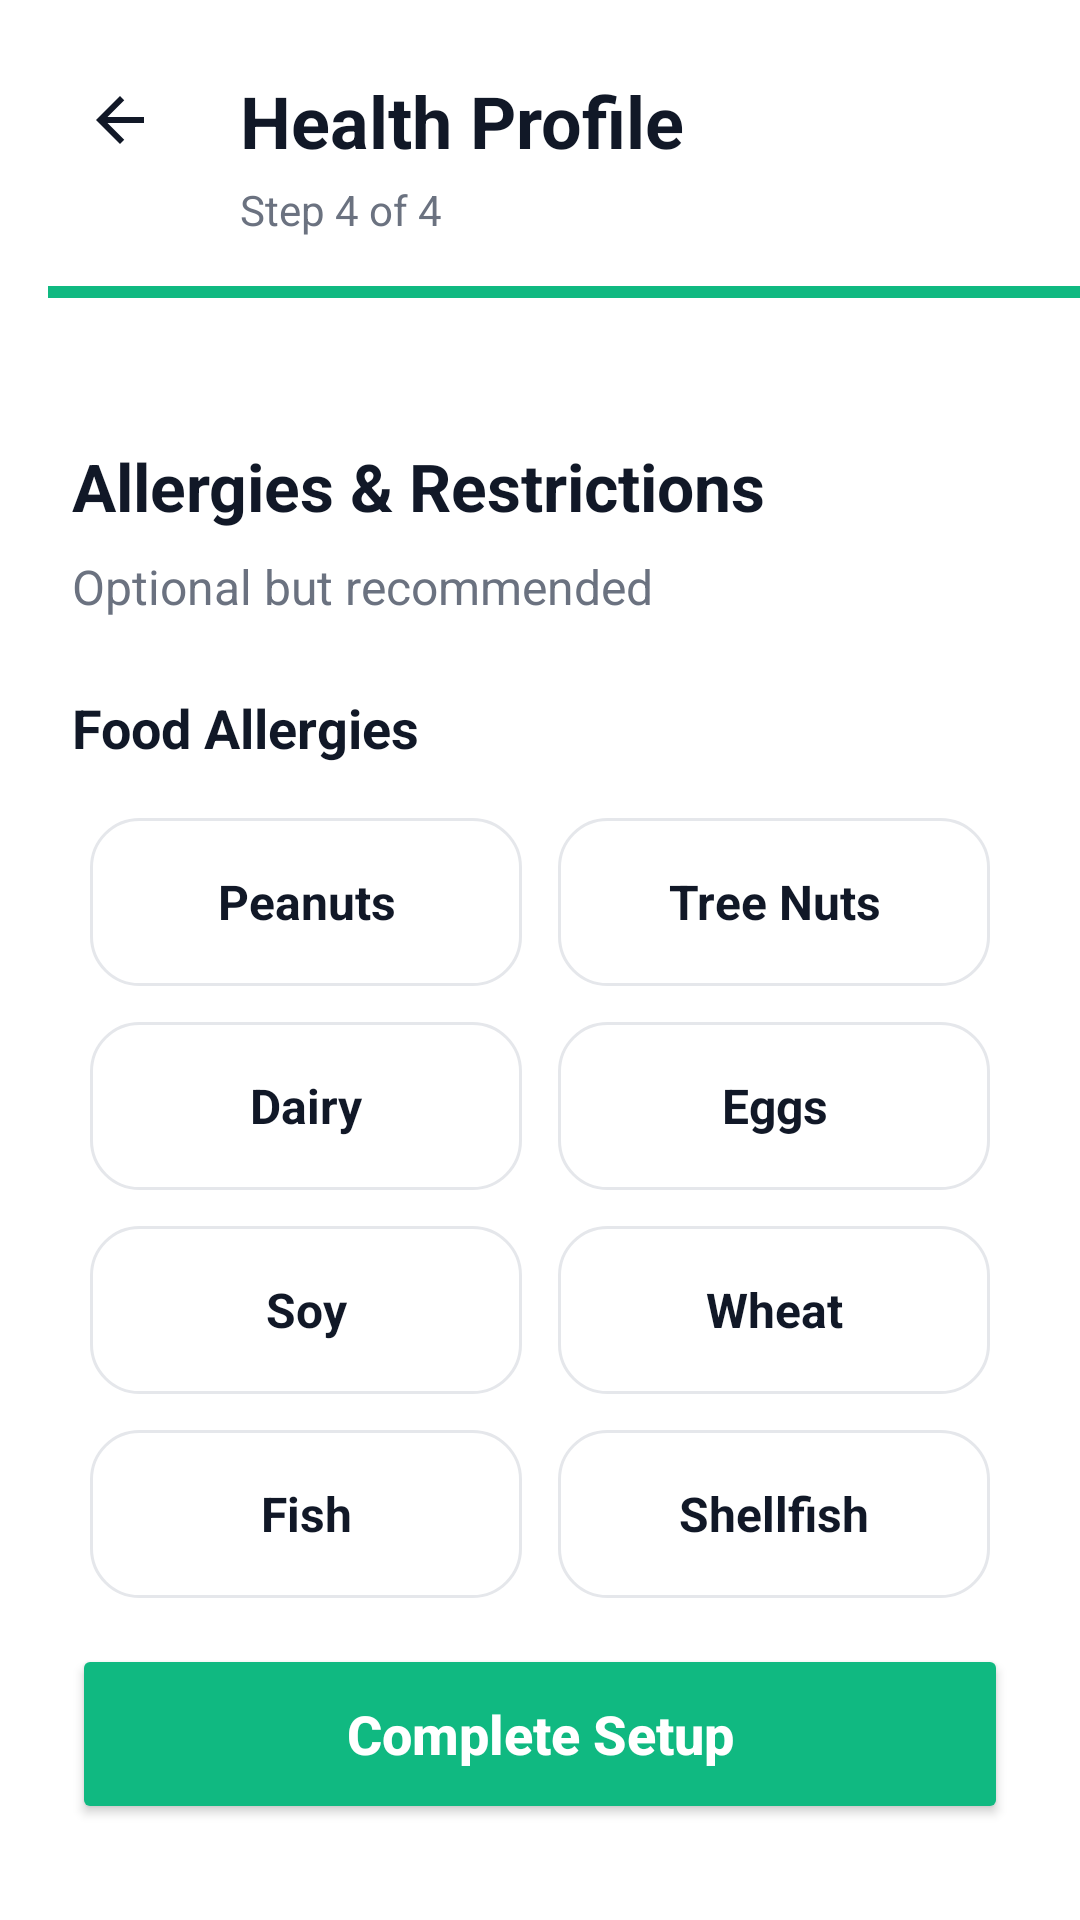

Icons on this 1080px x 1920px Android screen, each with the point to tap as [x,y]:
arrow back: [120,120]
